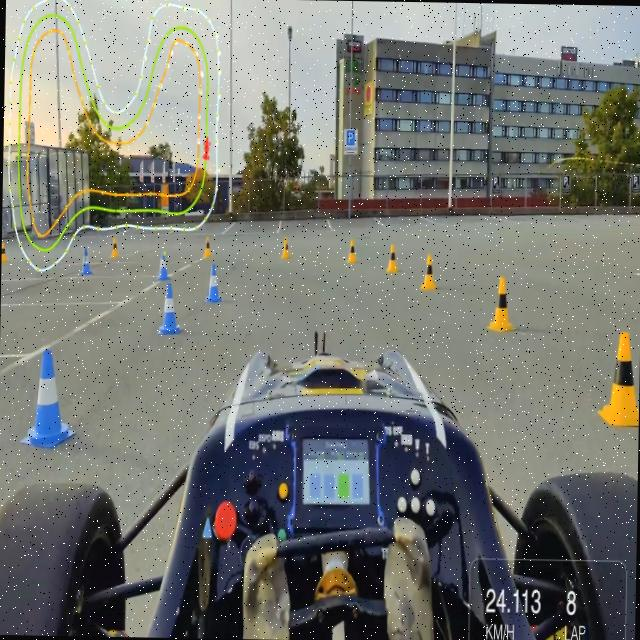blue_cone: (18, 344, 76, 449), (158, 283, 182, 337), (206, 262, 223, 304), (78, 245, 94, 278), (156, 250, 170, 282)
yellow_cone: (598, 324, 640, 432), (487, 272, 516, 334), (422, 252, 436, 290), (385, 240, 400, 274), (346, 236, 358, 265), (282, 234, 292, 260), (110, 234, 119, 259), (203, 234, 212, 256), (1, 240, 9, 264)
